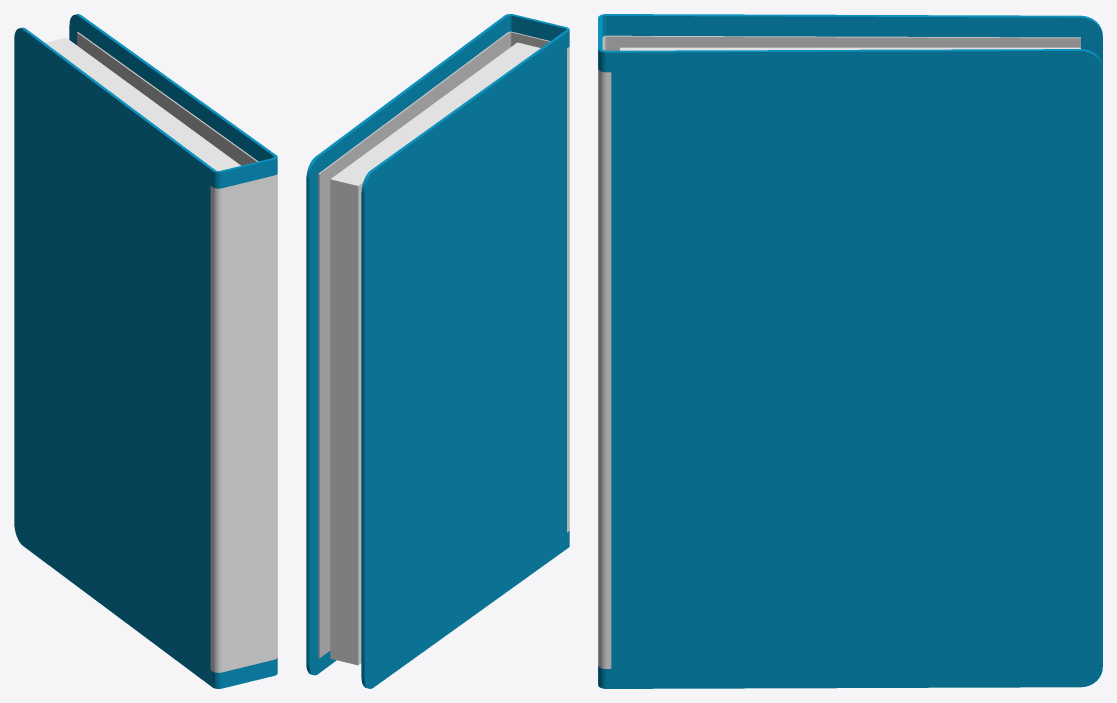
Rendered from 446_パイプ式ファイル細中身あり.glb.
The picture shows the model from 3 angles, left to right: view 1: azimuth 30°, elevation 25°; view 2: azimuth 150°, elevation 25°; view 3: azimuth 270°, elevation 25°; orthographic projection. The views are drawn at different scales.
Parts seen in each view (by area): view 1: 446_pipe_file_S_with_contents; view 2: 446_pipe_file_S_with_contents; view 3: 446_pipe_file_S_with_contents.
Boxes of the visible parts, left/top/right/bottom form: 446_pipe_file_S_with_contents: left=14, top=14, right=277, bottom=688; 446_pipe_file_S_with_contents: left=306, top=14, right=569, bottom=688; 446_pipe_file_S_with_contents: left=598, top=14, right=1102, bottom=688.
Bounding box in the file's own units: 0.0416 × 0.32 × 0.23.
